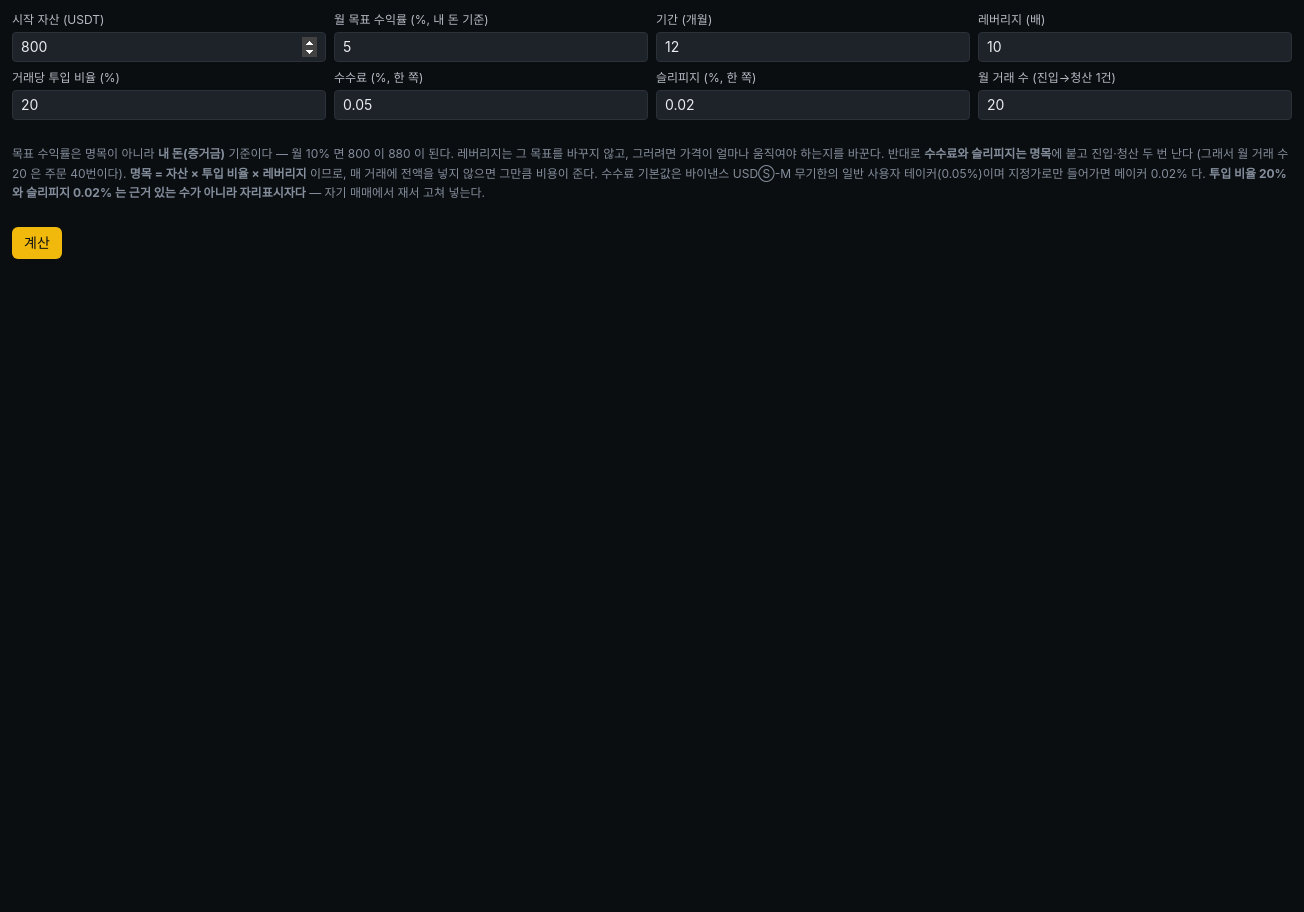
it: 목표 복리 › 먼저 답한다 — 12개월 뒤 얼마가 되는가
This screenshot has width=1304, height=912.
Click the button "계산" at (37, 242), box [12,226,62,258]
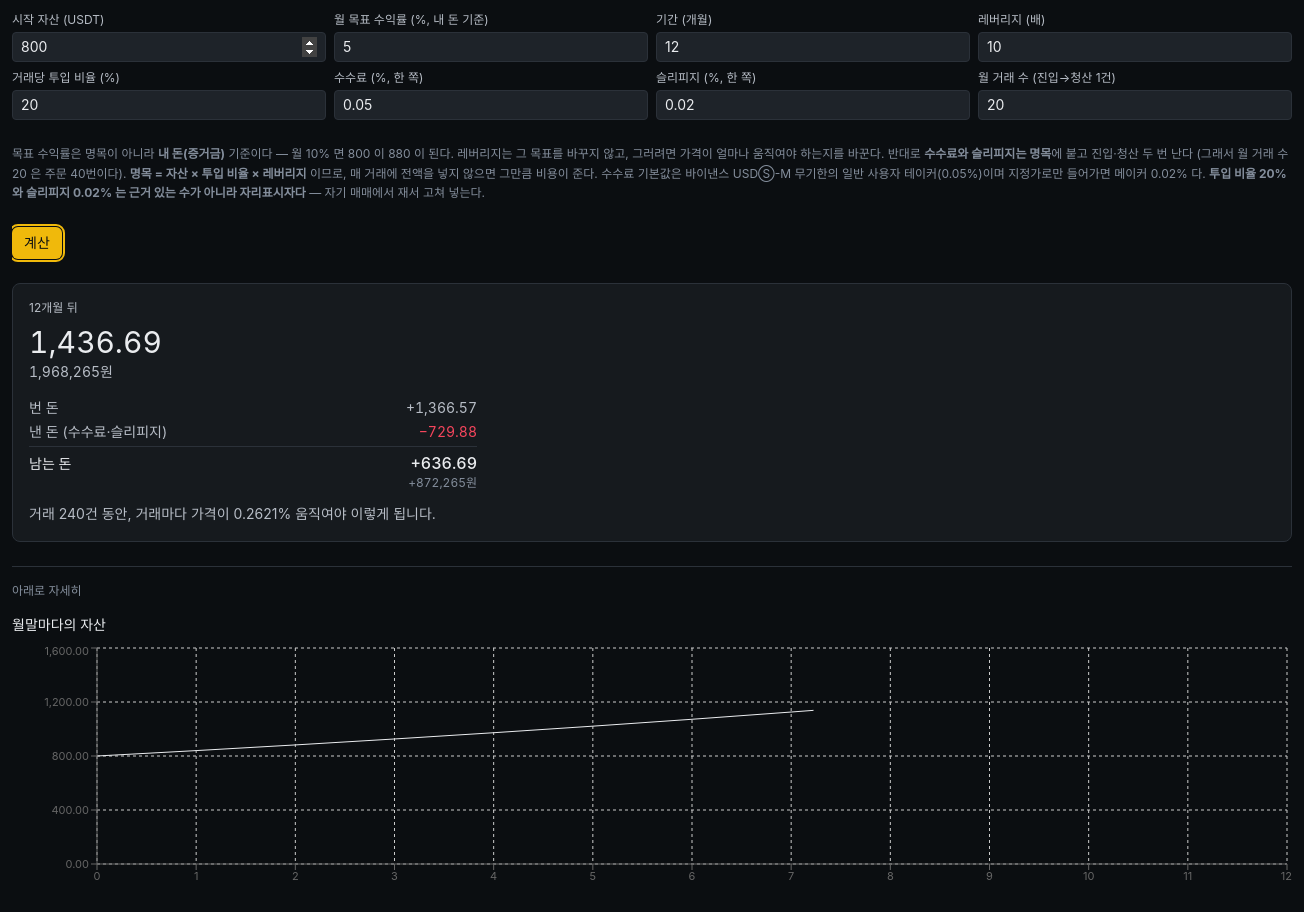
Now the element named "목표 복리 결과" shows "12개월 뒤", box [12,282,1292,542]
Now the element named "목표 복리 결과" shows "1,436.69", box [29,324,162,360]
